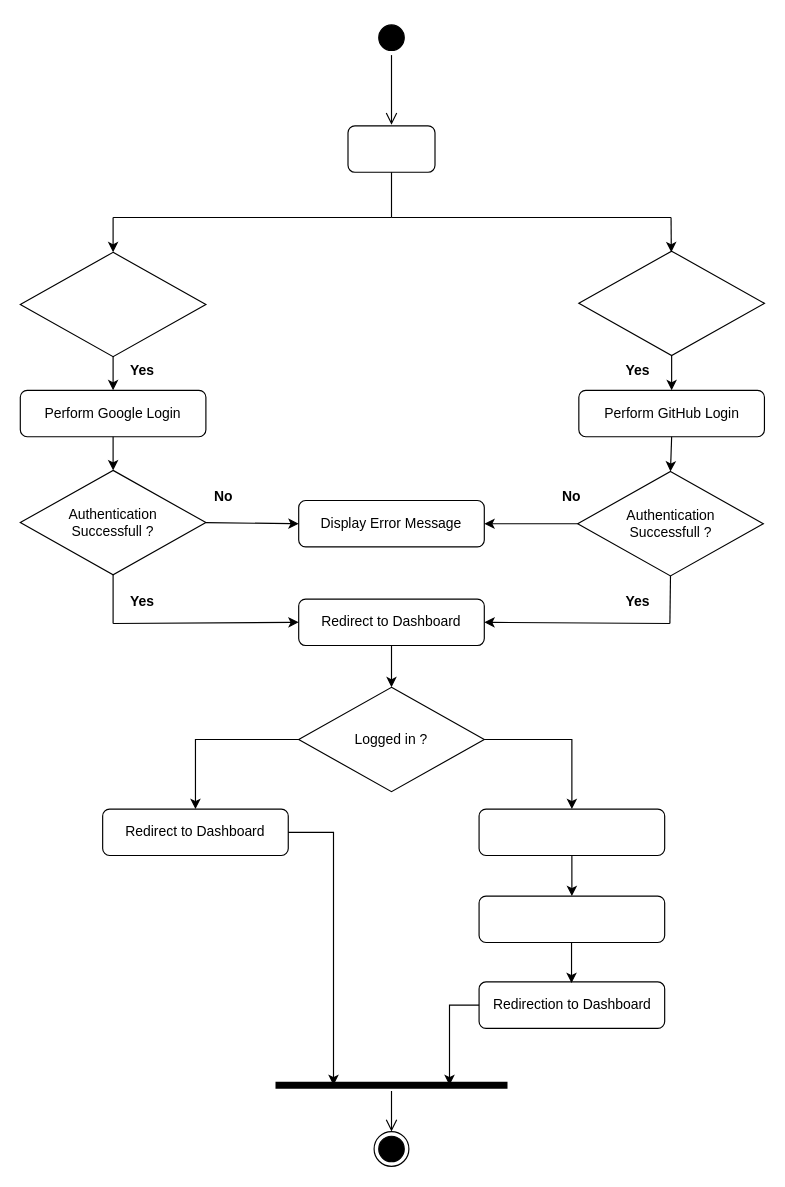
Some shapes in this 785 by 1187 pixel diagram are drawn without their labels. Here are the shapes that lost their labels. From the top down, the centre of each, then its label:
At point (391, 148): "Login".
At point (112, 304): "Choose Google Login ?".
At point (671, 303): "Choose GitHub Login ?".
At point (571, 831): "Sign Up".
At point (571, 918): "Create Account".
